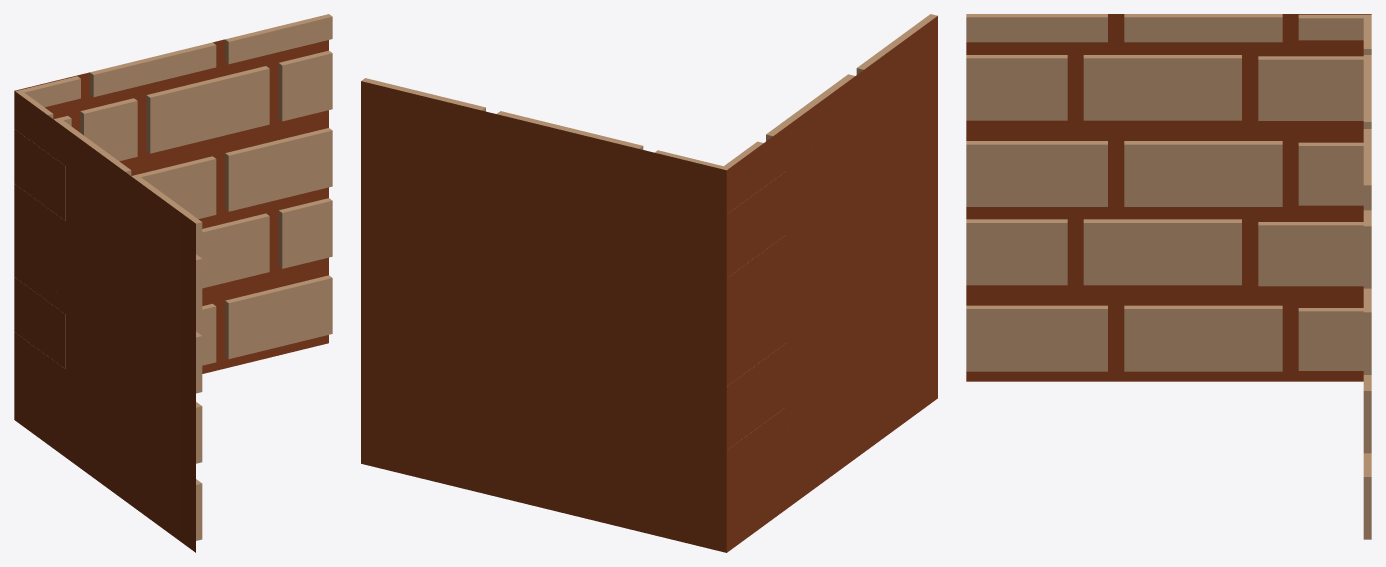
File: Ext-BrickV1CornerHalfWall-Inv.fbx
3 renders of one model, left to right at view 1: azimuth 30°, elevation 25°; view 2: azimuth 150°, elevation 25°; view 3: azimuth 270°, elevation 25°, orthographic. The views are drawn at different scales.
Parts seen in each view (by area): view 1: Ext-BrickV1CornerHalfWall-Inv; view 2: Ext-BrickV1CornerHalfWall-Inv; view 3: Ext-BrickV1CornerHalfWall-Inv.
Part boxes in pixels (left/top/right/bottom): Ext-BrickV1CornerHalfWall-Inv: left=14, top=14, right=332, bottom=552; Ext-BrickV1CornerHalfWall-Inv: left=361, top=14, right=937, bottom=552; Ext-BrickV1CornerHalfWall-Inv: left=966, top=14, right=1371, bottom=539.
Size of the model in its own units: 100 by 100 by 100.
